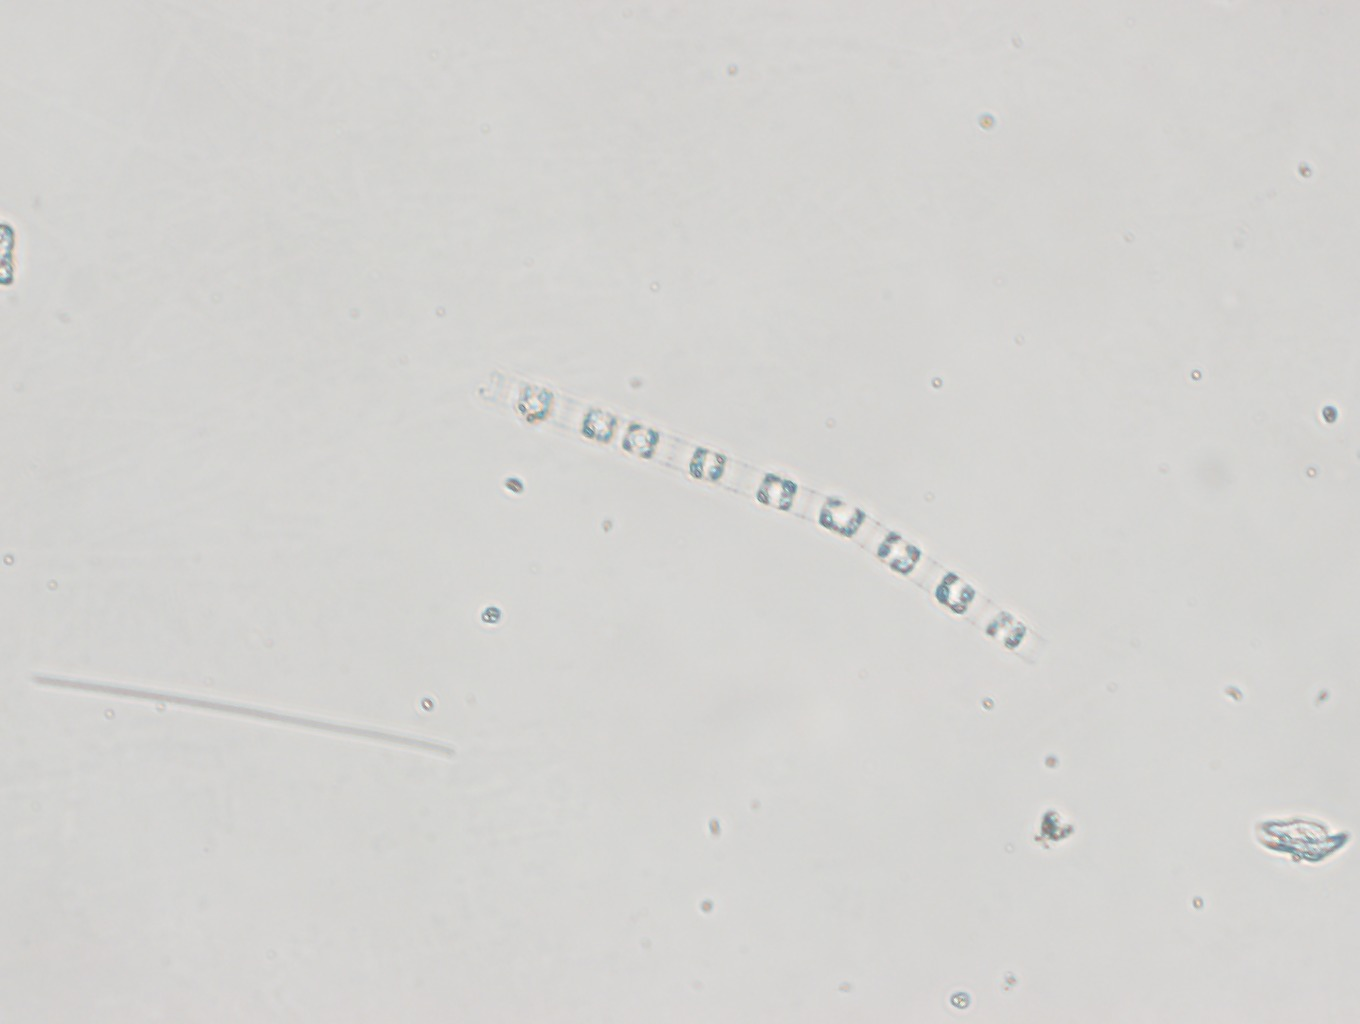skeletonema: (483, 373, 1042, 670)
